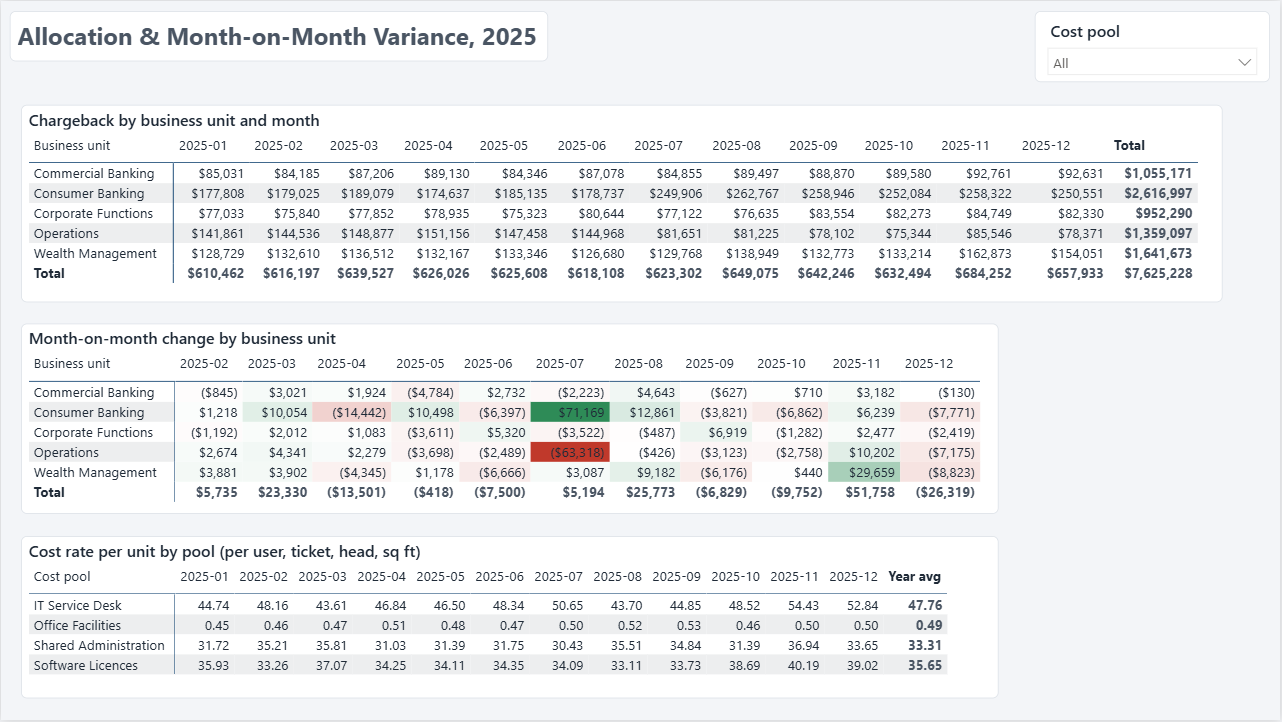

This screenshot's page, from the dashboard's own definition file:
{"tool":"powerbi","page":{"name":"Allocation & Variance","canvas":[1280,720],"ordinal":1},"visuals":[{"type":"pivotTable","title":"Chargeback by business unit and month ","fields":{"Rows":["DimBusinessUnit.bu_name"],"Columns":["DimPeriod.period"],"Values":["Report Measures.Charged Back"]},"box":[20,103.8,1201.2,197.5],"z":0},{"type":"pivotTable","title":"Month-on-month change by business unit","fields":{"Rows":["DimBusinessUnit.bu_name"],"Columns":["DimPeriod.period"],"Values":["Report Measures.MoM Change"]},"box":[20,322.2,977.8,190],"z":1000},{"type":"pivotTable","title":"Cost rate per unit by pool (per user, ticket, head, sq ft)","fields":{"Rows":["DimPool.pool_name"],"Columns":["DimPeriod.period"],"Values":["Avg(AllocationSummary.rate)"]},"box":[20,535,977.5,162.5],"z":2000},{"type":"slicer","fields":{"Values":["DimPool.pool_name"]},"box":[1033.3,10,235.6,71.1],"z":3000},{"type":"textbox","box":[8.8,10,538.8,50],"z":4000}]}

Visuals, with their boxes in screenshot pixels (x1, y1, x2, y2), scaled from the page's 1280x720 canvas onto the 1282x722 screenshot:
"Chargeback by business unit and month " pivotTable: x1=20 y1=104 x2=1223 y2=302
"Month-on-month change by business unit" pivotTable: x1=20 y1=323 x2=999 y2=514
"Cost rate per unit by pool (per user, ticket, head, sq ft)" pivotTable: x1=20 y1=536 x2=999 y2=699
slicer - DimPool.pool_name: x1=1035 y1=10 x2=1271 y2=81
textbox: x1=9 y1=10 x2=548 y2=60
